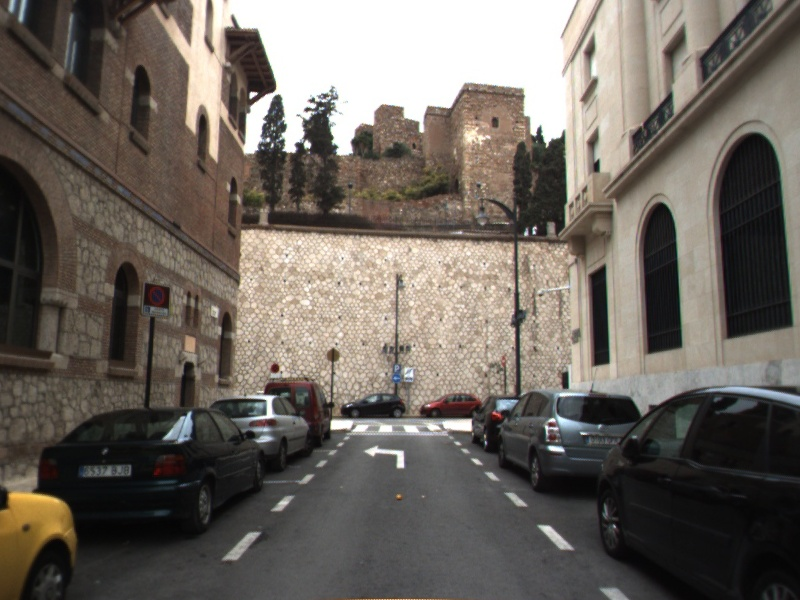LEFT: (362, 443, 406, 470)
